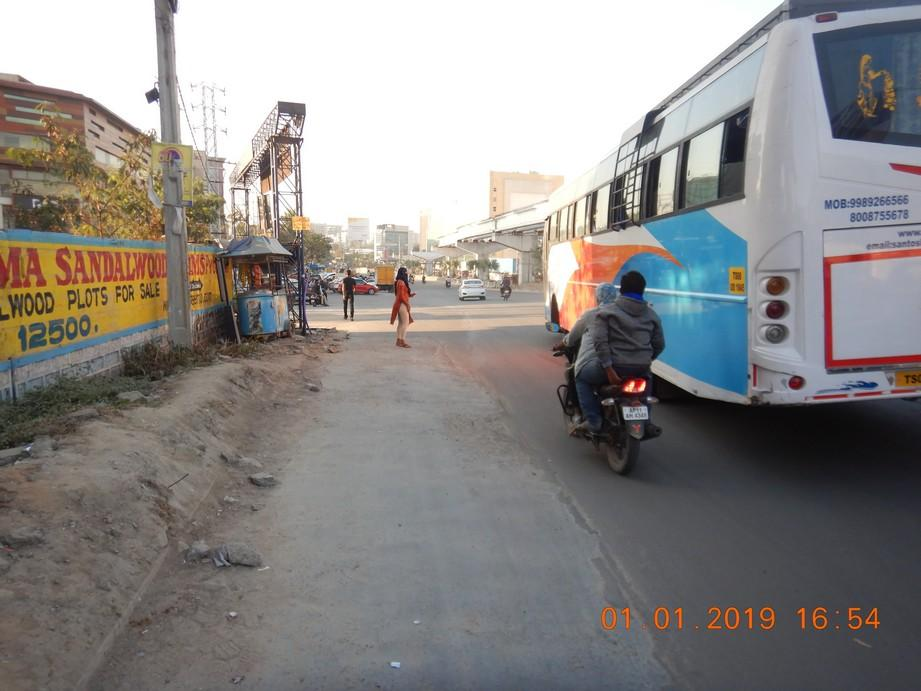plate: (623, 406, 648, 421)
